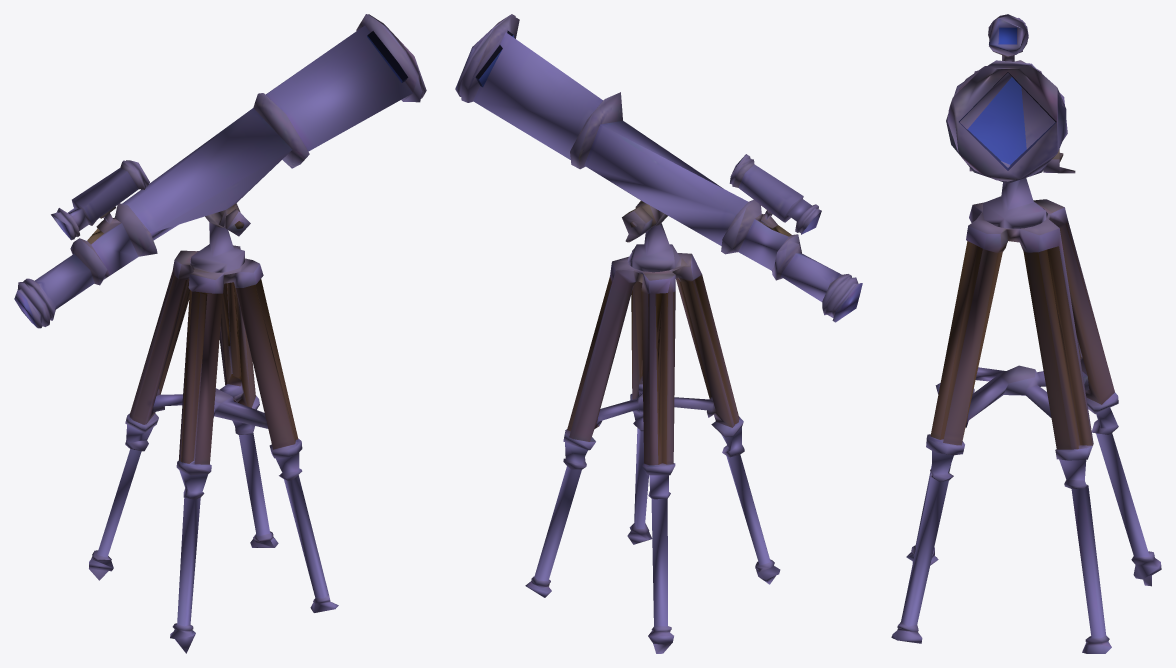
The model's file is model.progressive.glb.
3 renders of one model, left to right at view 1: azimuth 30°, elevation 25°; view 2: azimuth 150°, elevation 25°; view 3: azimuth 270°, elevation 25°, orthographic. The views are drawn at different scales.
Visible parts, largest first — view 1: material; view 2: material; view 3: material.
Part boxes in pixels (<box>): material: <box>14,14,426,653</box>; material: <box>455,14,862,653</box>; material: <box>891,14,1161,653</box>.
Size of the model in its own units: 1.43 by 1.9 by 0.7146.
Materials: 1 (1 with a texture image).
